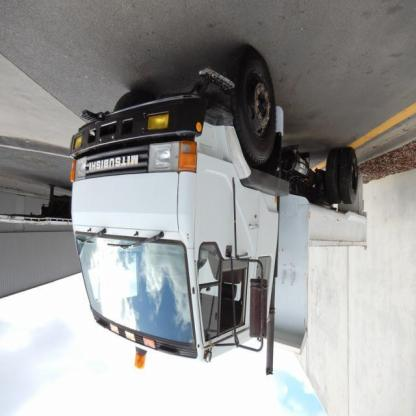truck: (71, 50, 368, 369)
